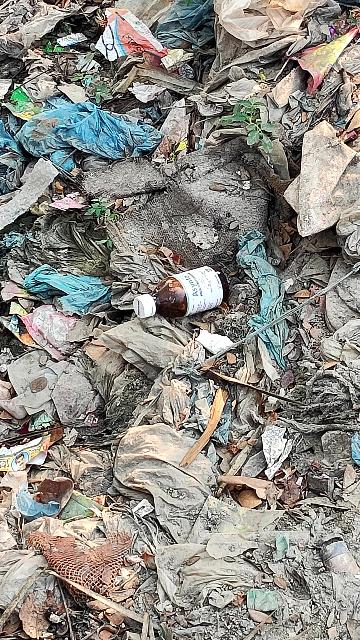bottle: (128, 259, 236, 325)
